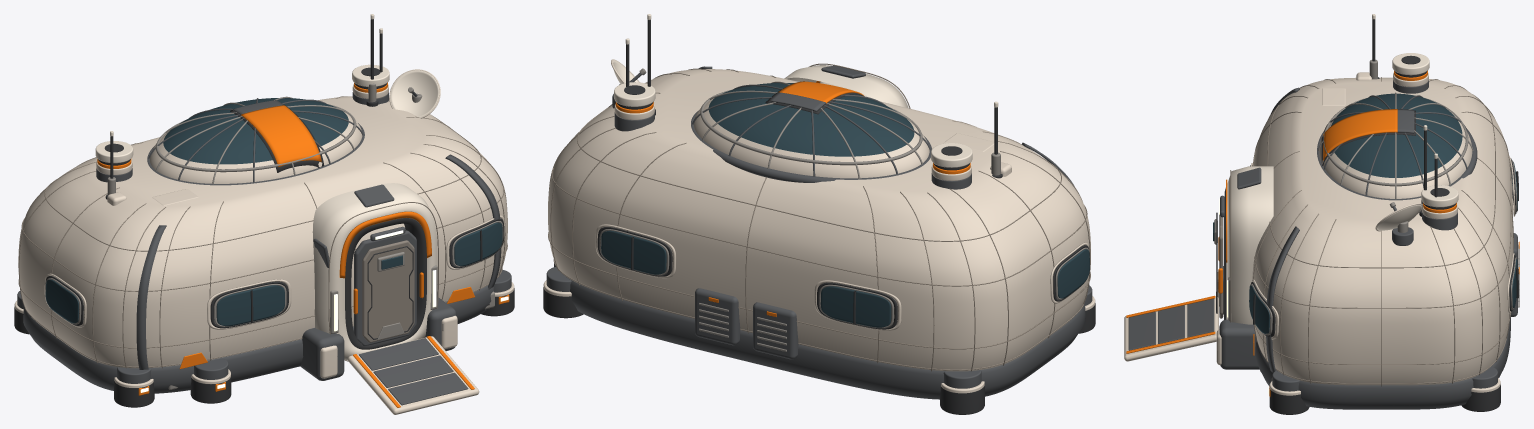
Rendered from habitat-reference-module.glb.
3 renders of one model, left to right at view 1: azimuth 30°, elevation 25°; view 2: azimuth 150°, elevation 25°; view 3: azimuth 270°, elevation 25°, orthographic. The views are drawn at different scales.
Visible parts, largest first — view 1: Continuous rounded pressure hull, Paneled oval roof skylight, Airlock massive ivory surround, Deep graphite lower equipment skirt, Armored titanium airlock leaf, Broad orange roof bridge, Airlock dark pressure seal, Front left paired window / smoked blue glazing, Ramp ivory structural deck, Concave ivory communications dish, Airlock charcoal door frame, Airlock side impact pod (+27 smaller); view 2: Continuous rounded pressure hull, Paneled oval roof skylight, Deep graphite lower equipment skirt, Rear left paired window / smoked blue glazing, Rear right paired window / smoked blue glazing, Rear life-support equipment cabinet, Rear life-support equipment cabinet.001, Airlock massive ivory surround, Dome continuous compression ring, Dome continuous compression ring.001, Left end window / smoked blue glazing, Rounded landing foot base.003 (+13 smaller); view 3: Continuous rounded pressure hull, Paneled oval roof skylight, Deep graphite lower equipment skirt, Airlock massive ivory surround, Broad orange roof bridge, Airlock side impact pod.001, Ramp ivory structural deck, Ramp dark anti-slip tread, Ramp dark anti-slip tread.002, Ramp dark anti-slip tread.001, Dome continuous compression ring.001, Front structural end rib.001 (+18 smaller).
Part boxes in pixels (bbox=[...]): Continuous rounded pressure hull: bbox=[18, 96, 507, 368]; Paneled oval roof skylight: bbox=[149, 98, 362, 183]; Airlock massive ivory surround: bbox=[312, 183, 437, 360]; Deep graphite lower equipment skirt: bbox=[23, 285, 493, 393]; Armored titanium airlock leaf: bbox=[362, 240, 414, 342]; Broad orange roof bridge: bbox=[241, 105, 321, 167]; Airlock dark pressure seal: bbox=[345, 218, 426, 349]; Front left paired window / smoked blue glazing: bbox=[216, 285, 284, 326]; Ramp ivory structural deck: bbox=[347, 336, 479, 414]; Concave ivory communications dish: bbox=[390, 70, 439, 117]; Airlock charcoal door frame: bbox=[354, 230, 416, 345]; Airlock side impact pod: bbox=[300, 328, 344, 380]; Continuous rounded pressure hull: bbox=[548, 69, 1090, 371]; Paneled oval roof skylight: bbox=[693, 83, 929, 178]; Deep graphite lower equipment skirt: bbox=[554, 263, 1085, 399]; Rear left paired window / smoked blue glazing: bbox=[820, 286, 891, 327]; Rear right paired window / smoked blue glazing: bbox=[601, 230, 666, 274]; Rear life-support equipment cabinet: bbox=[753, 302, 798, 359]; Rear life-support equipment cabinet.001: bbox=[695, 288, 740, 345]; Airlock massive ivory surround: bbox=[784, 65, 908, 108]; Dome continuous compression ring: bbox=[691, 110, 931, 182]; Dome continuous compression ring.001: bbox=[700, 89, 922, 165]; Left end window / smoked blue glazing: bbox=[1057, 249, 1089, 298]; Rounded landing foot base.003: bbox=[940, 384, 984, 414]; Continuous rounded pressure hull: bbox=[1252, 77, 1513, 385]; Paneled oval roof skylight: bbox=[1319, 93, 1472, 198]; Deep graphite lower equipment skirt: bbox=[1255, 317, 1510, 409]; Airlock massive ivory surround: bbox=[1226, 166, 1273, 324]; Broad orange roof bridge: bbox=[1323, 109, 1397, 160]; Airlock side impact pod.001: bbox=[1219, 319, 1259, 369]; Ramp ivory structural deck: bbox=[1124, 296, 1218, 361]; Ramp dark anti-slip tread: bbox=[1128, 312, 1155, 350]; Ramp dark anti-slip tread.002: bbox=[1187, 298, 1214, 337]; Ramp dark anti-slip tread.001: bbox=[1158, 305, 1184, 343]; Dome continuous compression ring.001: bbox=[1323, 97, 1468, 186]; Front structural end rib.001: bbox=[1266, 226, 1299, 372].
Size of the model in its own units: 13.93 by 8.05 by 11.18.
